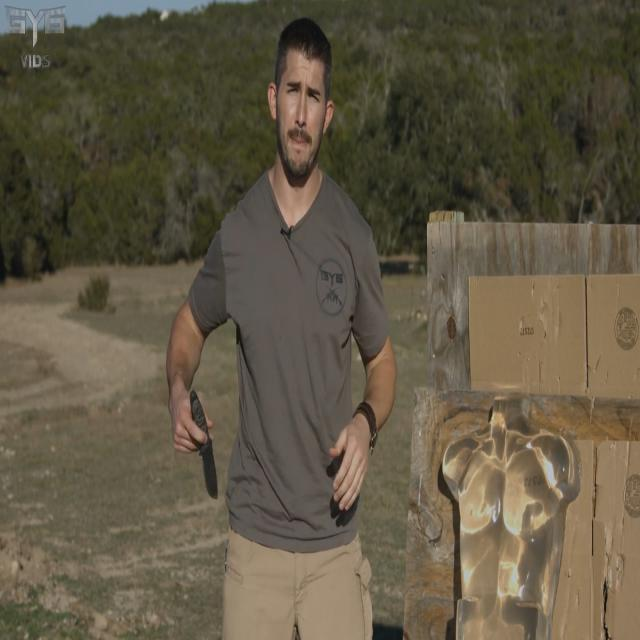faca: (170, 382, 222, 508)
